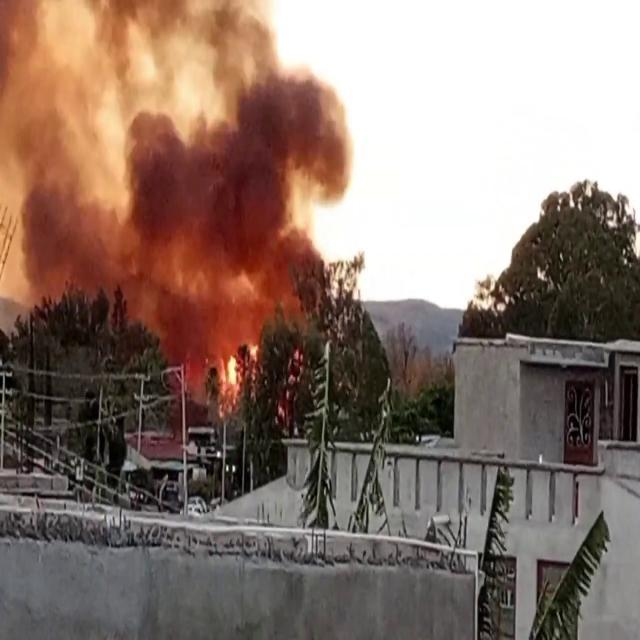Fire: (211, 334, 261, 409)
Smoke: (0, 1, 361, 337)
